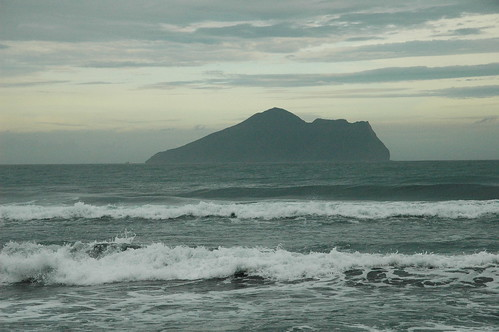turtleIsland: (147, 107, 390, 162)
